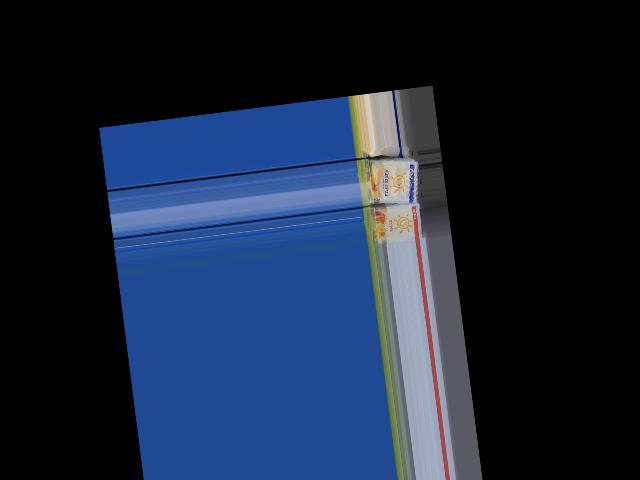cheese: (362, 201, 426, 247)
